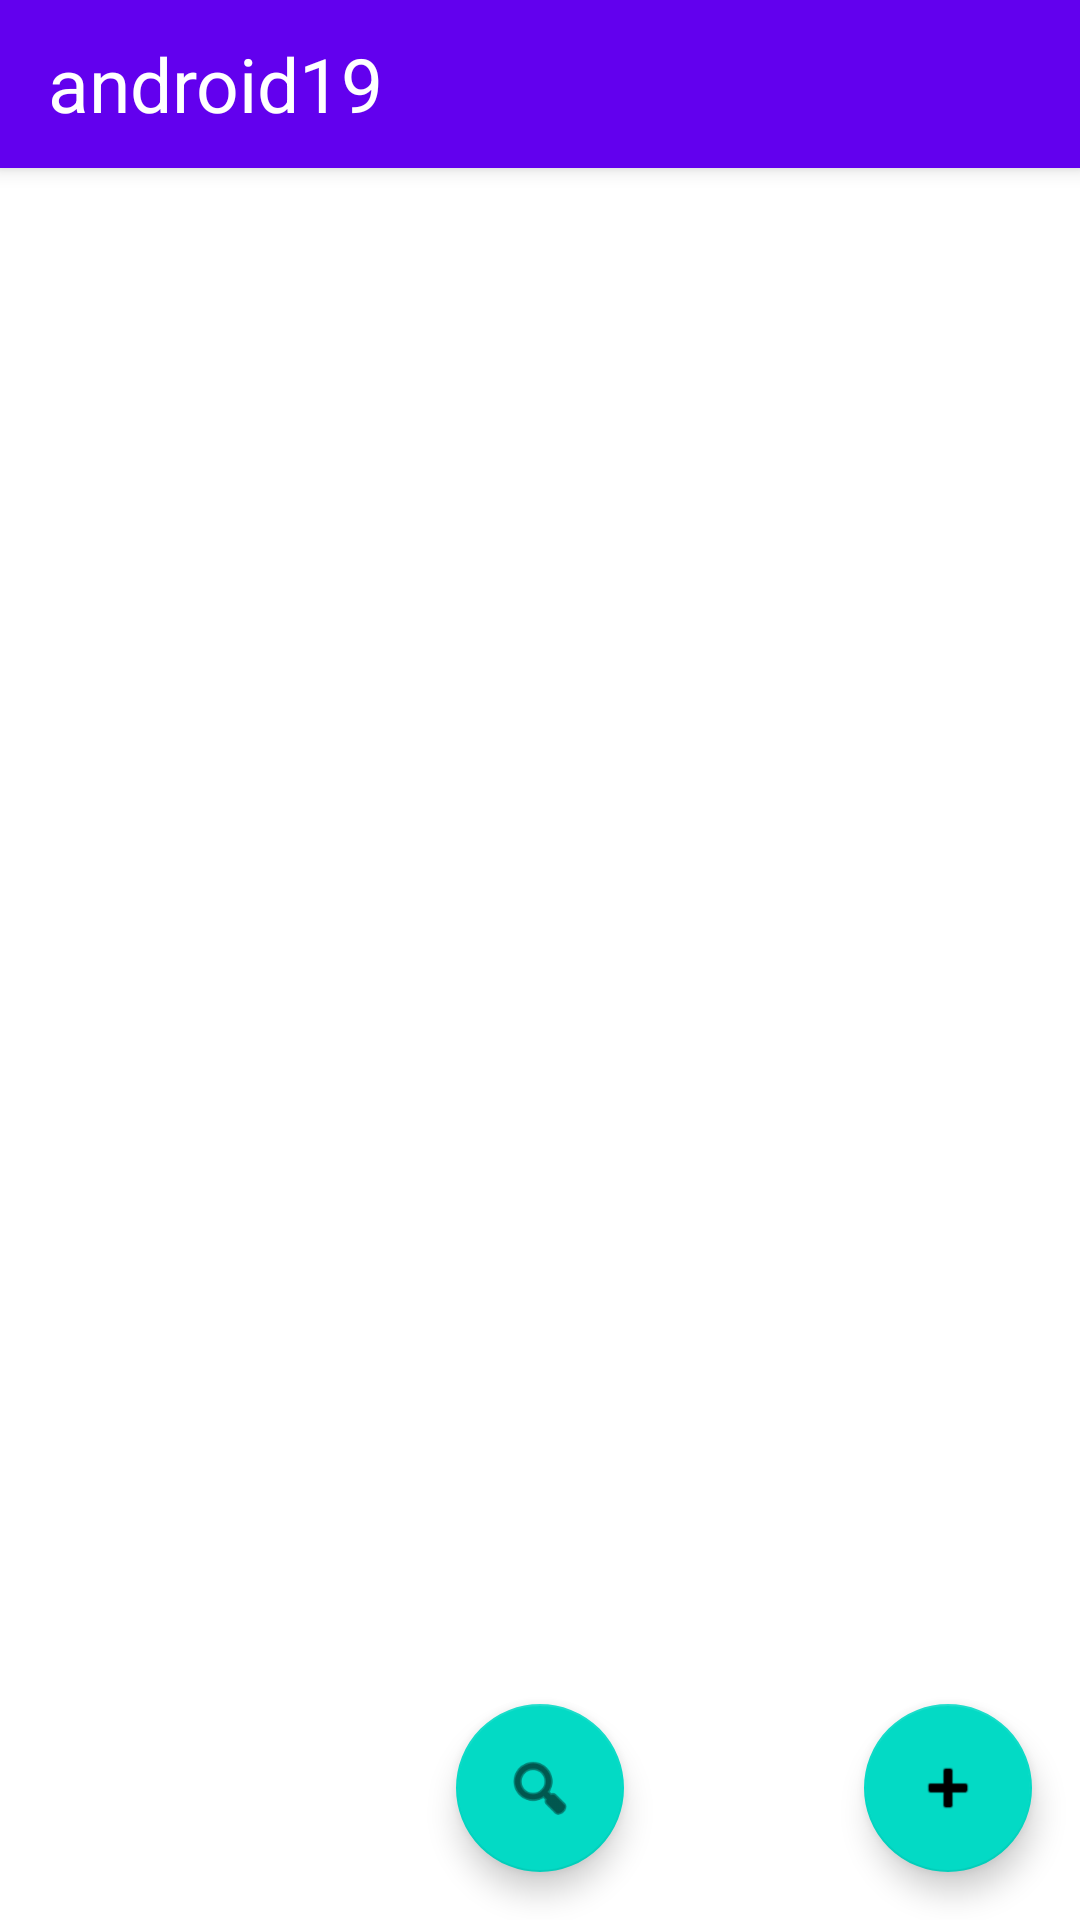

Screen size 1080x1920. Icon name, then its box in pixels as (x1, y1, x2, y2):
add: (864, 1704, 1032, 1872)
search: (456, 1704, 624, 1872)
